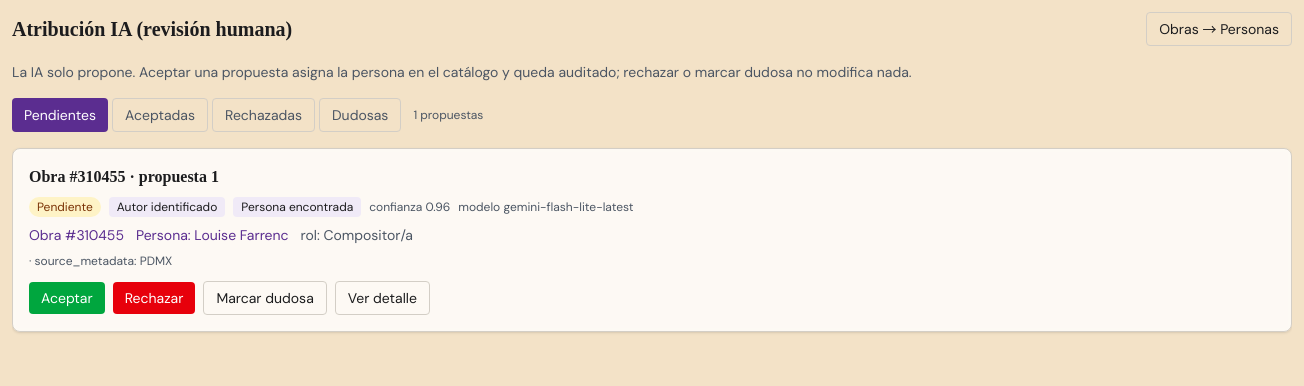
Test: AdminWorkPersonAiPage › si la propuesta ya no está pendiente lo indica y recarga
Click the button "Aceptar" at x=67, y=298, box [29, 282, 105, 314]
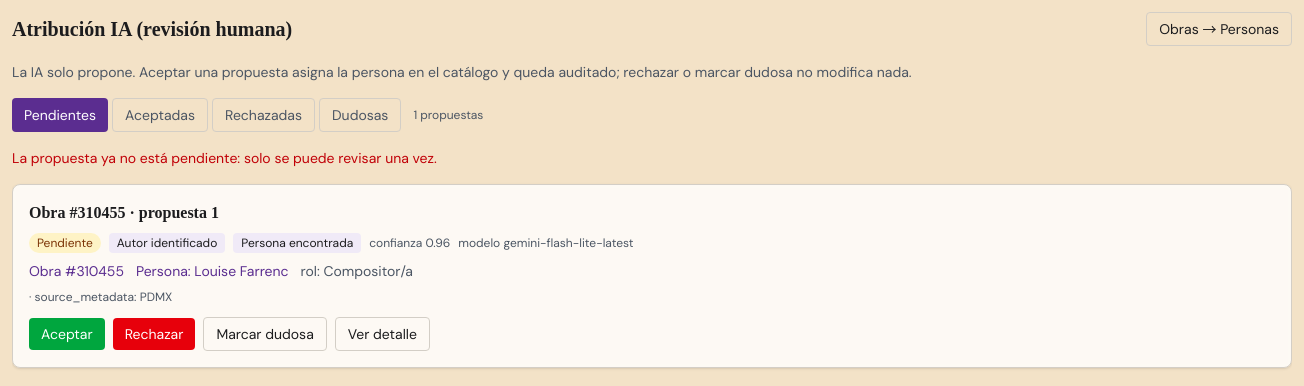
Result: the text "ya no está pendiente" is shown at [12, 149, 437, 167]
